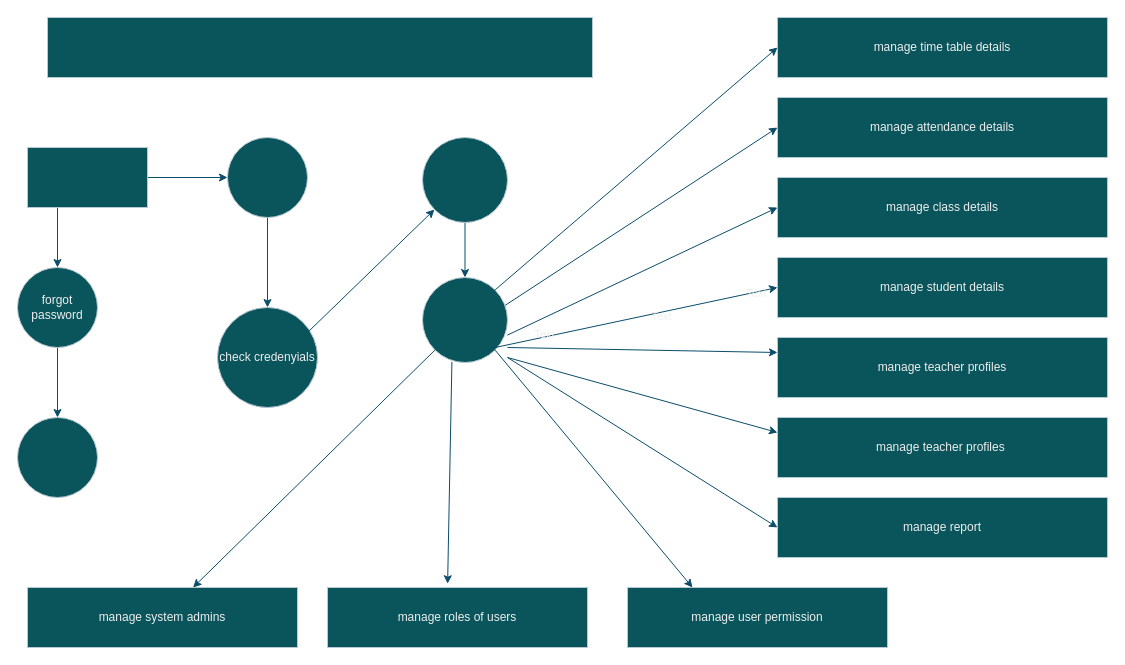
Some shapes in this 1125 by 665 pixel diagram are drawn without their labels. The box of each missing label's shape, as (x1, y1, x2, y2) in pixels:
Admin: (26, 146, 148, 208)
check roles of access: (422, 136, 508, 222)
login to system: (226, 136, 308, 218)
manage modules: (422, 276, 508, 362)
send email: (16, 416, 98, 498)
Student Information system: (46, 16, 592, 78)
